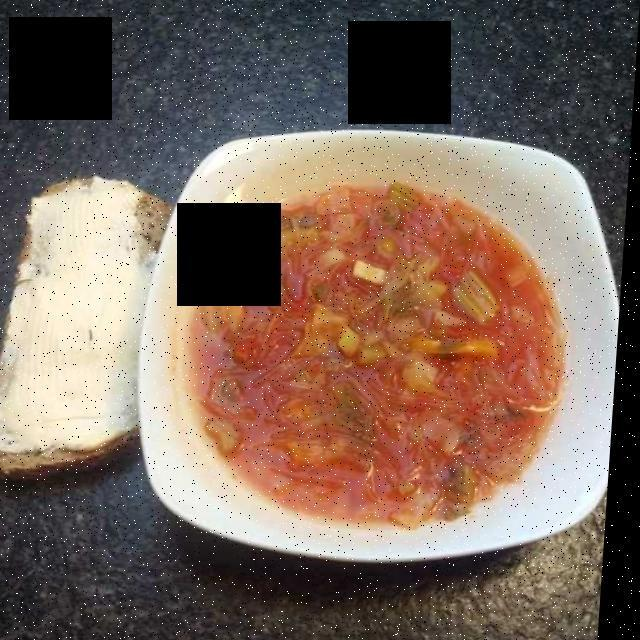bread: (0, 177, 159, 476)
butter: (0, 179, 153, 438)
soup: (210, 185, 572, 526)
